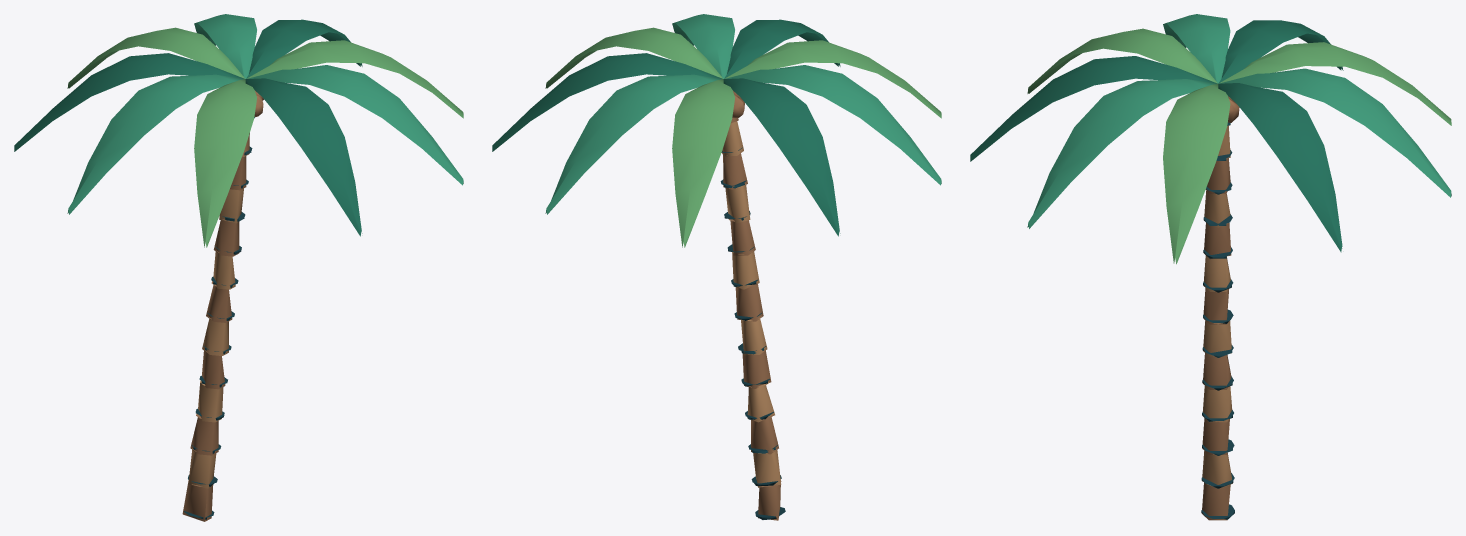
File: mainsail-palm-far.glb
The picture shows the model from 3 angles, left to right: view 1: azimuth 30°, elevation 25°; view 2: azimuth 150°, elevation 25°; view 3: azimuth 270°, elevation 25°; orthographic projection. The views are drawn at different scales.
Size of the model in its own units: 5.91 by 6.41 by 5.82.
